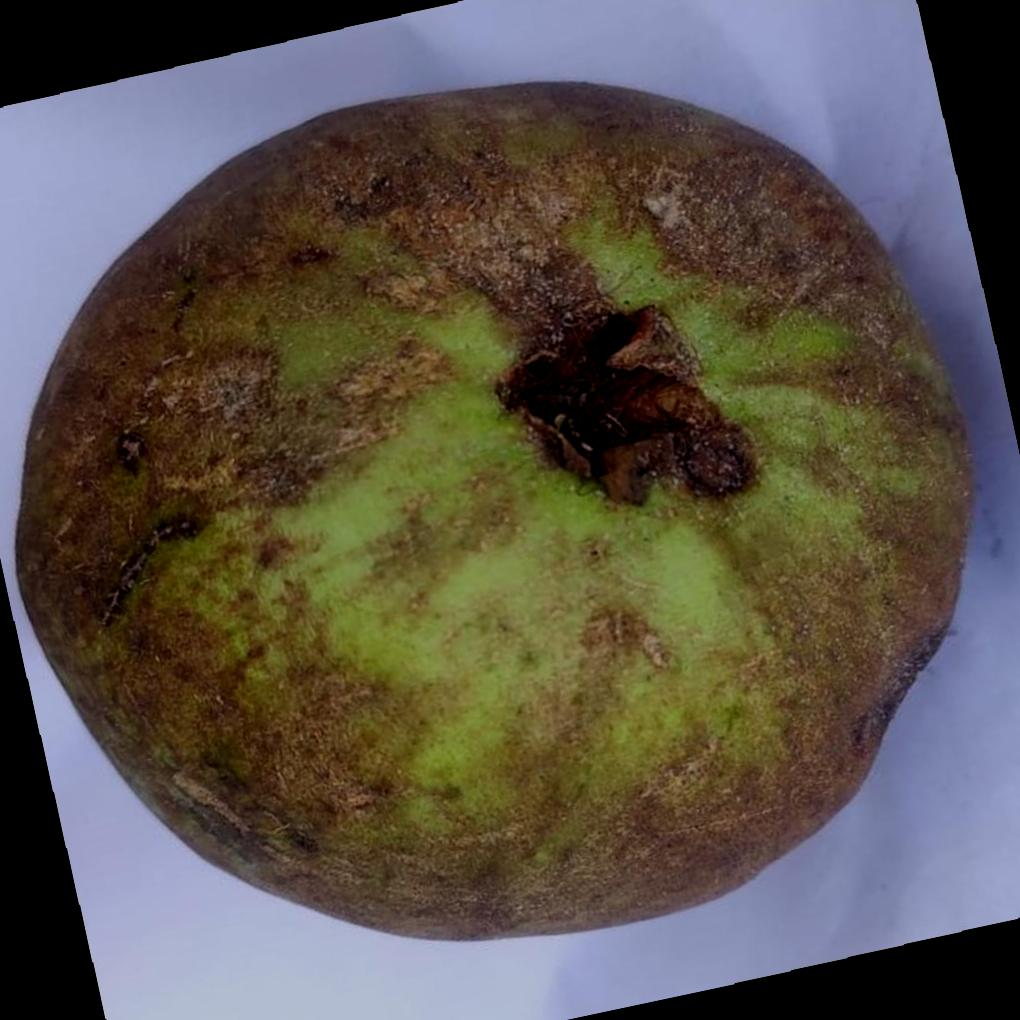FreshOrange: (9, 78, 972, 942)
